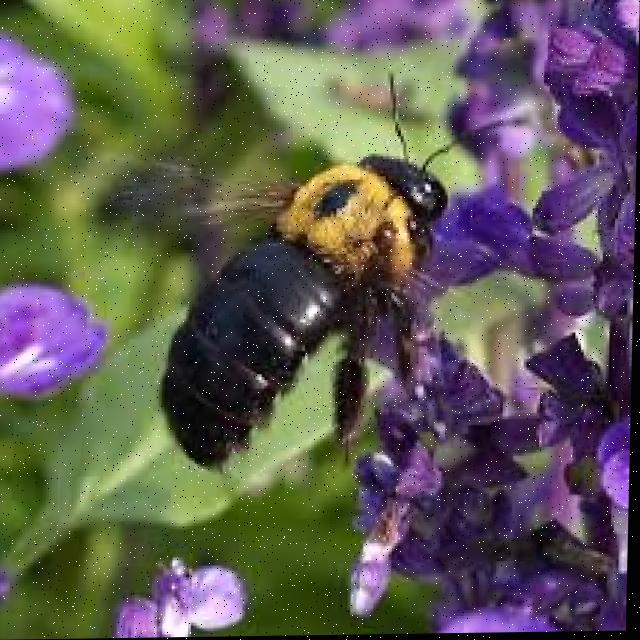Xylocopa: (102, 84, 497, 489)
